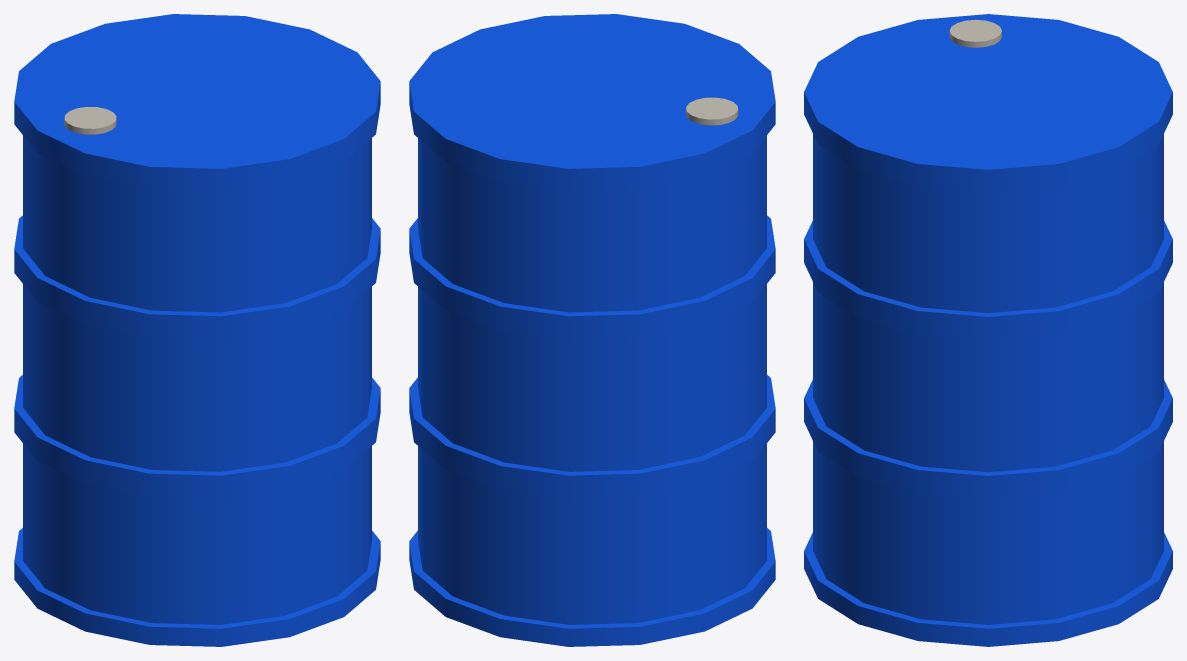
File: 03 Oil barrel.FBX.glb
3 renders of one model, left to right at view 1: azimuth 30°, elevation 25°; view 2: azimuth 150°, elevation 25°; view 3: azimuth 270°, elevation 25°, orthographic.
Parts seen in each view (by area): view 1: Cylinder094.2; view 2: Cylinder094.2; view 3: Cylinder094.2.
Part boxes in pixels (<box>): Cylinder094.2: <box>14,14,380,646</box>; Cylinder094.2: <box>409,14,775,646</box>; Cylinder094.2: <box>804,14,1172,646</box>.
Size of the model in its own units: 420 by 607 by 420.
